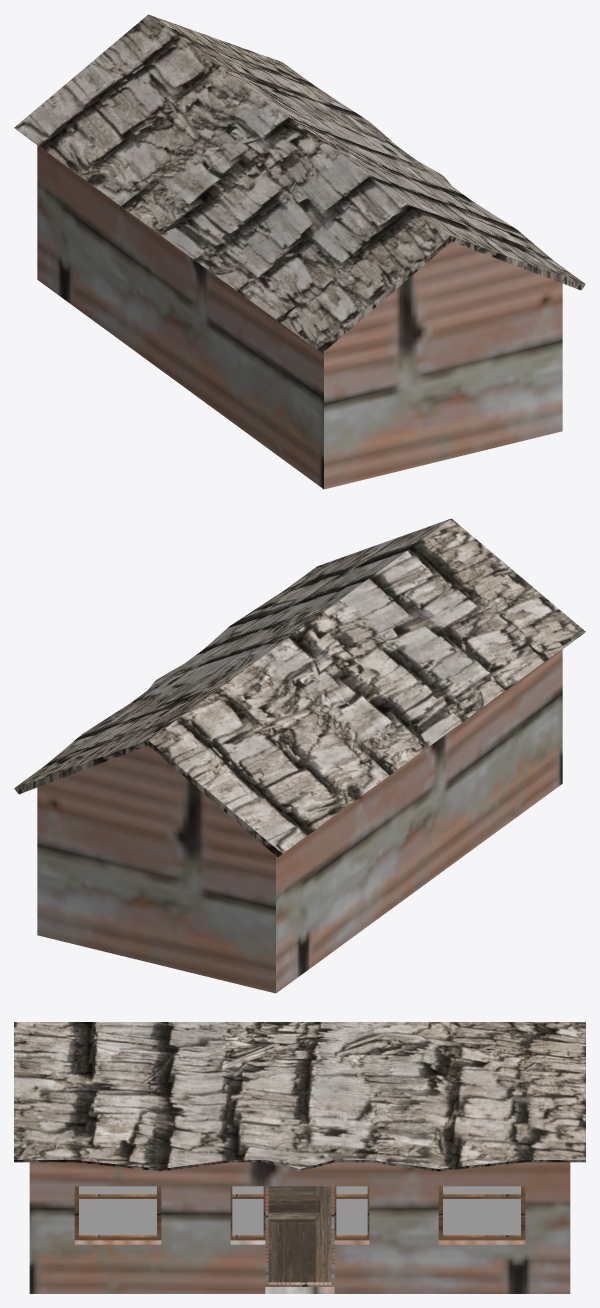
The model's file is nong_house.fbx.
3 views of the same model, one above another, from view 1: azimuth 30°, elevation 25°; view 2: azimuth 150°, elevation 25°; view 3: azimuth 270°, elevation 25° (orthographic). The views are drawn at different scales.
Parts seen in each view (by area): view 1: roof.001, house.001; view 2: roof.001, house.001; view 3: roof.001, house.001, windows.001, door.001, frame.001, door frame.001.
Part boxes in pixels (left/top/right/bottom): roof.001: left=14, top=14, right=585, bottom=353; house.001: left=37, top=145, right=562, bottom=489; roof.001: left=14, top=518, right=585, bottom=857; house.001: left=37, top=649, right=562, bottom=993; roof.001: left=14, top=1022, right=585, bottom=1171; house.001: left=29, top=1162, right=570, bottom=1293; windows.001: left=79, top=1186, right=520, bottom=1235; door.001: left=268, top=1186, right=331, bottom=1282; frame.001: left=74, top=1186, right=525, bottom=1240; door frame.001: left=265, top=1186, right=334, bottom=1286.
Size of the model in its own units: 582 by 460 by 1100.
